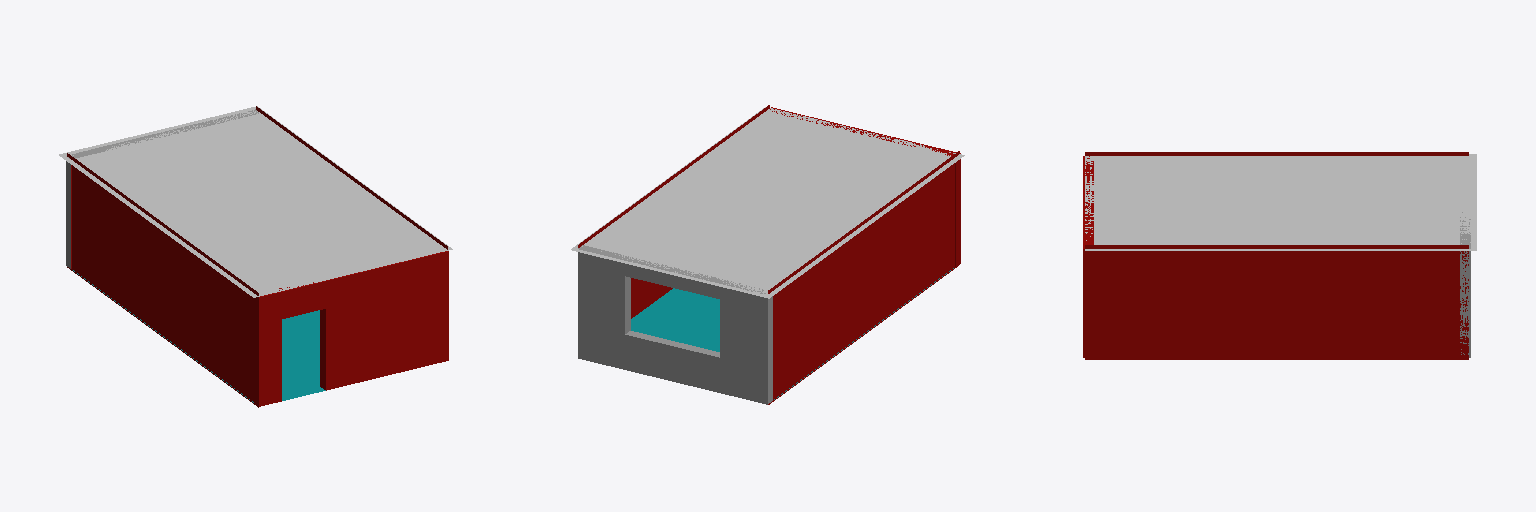
Rendered from room.obj.
3 renders of one model, left to right at view 1: azimuth 30°, elevation 25°; view 2: azimuth 150°, elevation 25°; view 3: azimuth 270°, elevation 25°, orthographic.
Visible parts, largest first — view 1: Plane.005, Plane.002, Plane.004, Plane, Plane.003, Plane.001; view 2: Plane.005, Plane.002, Plane.003, Plane, Plane.001, Plane.004; view 3: Plane.001, Plane.005, Plane.002, Plane.004, Plane.003.
Boxes of the visible parts, <box> form: Plane.005: <box>59,106,452,297</box>; Plane.002: <box>67,153,258,407</box>; Plane.004: <box>254,251,448,406</box>; Plane: <box>73,270,325,402</box>; Plane.003: <box>66,109,258,268</box>; Plane.001: <box>256,106,447,249</box>; Plane.005: <box>571,107,964,298</box>; Plane.002: <box>768,151,959,404</box>; Plane.003: <box>578,245,772,404</box>; Plane: <box>631,268,953,399</box>; Plane.001: <box>578,105,769,318</box>; Plane.004: <box>770,107,960,266</box>; Plane.001: <box>1085,245,1468,359</box>; Plane.005: <box>1085,154,1476,250</box>; Plane.002: <box>1085,152,1468,155</box>; Plane.004: <box>1083,156,1093,357</box>; Plane.003: <box>1460,212,1470,357</box>.
Size of the model in its own units: 6.3 by 3.46 by 10.76.